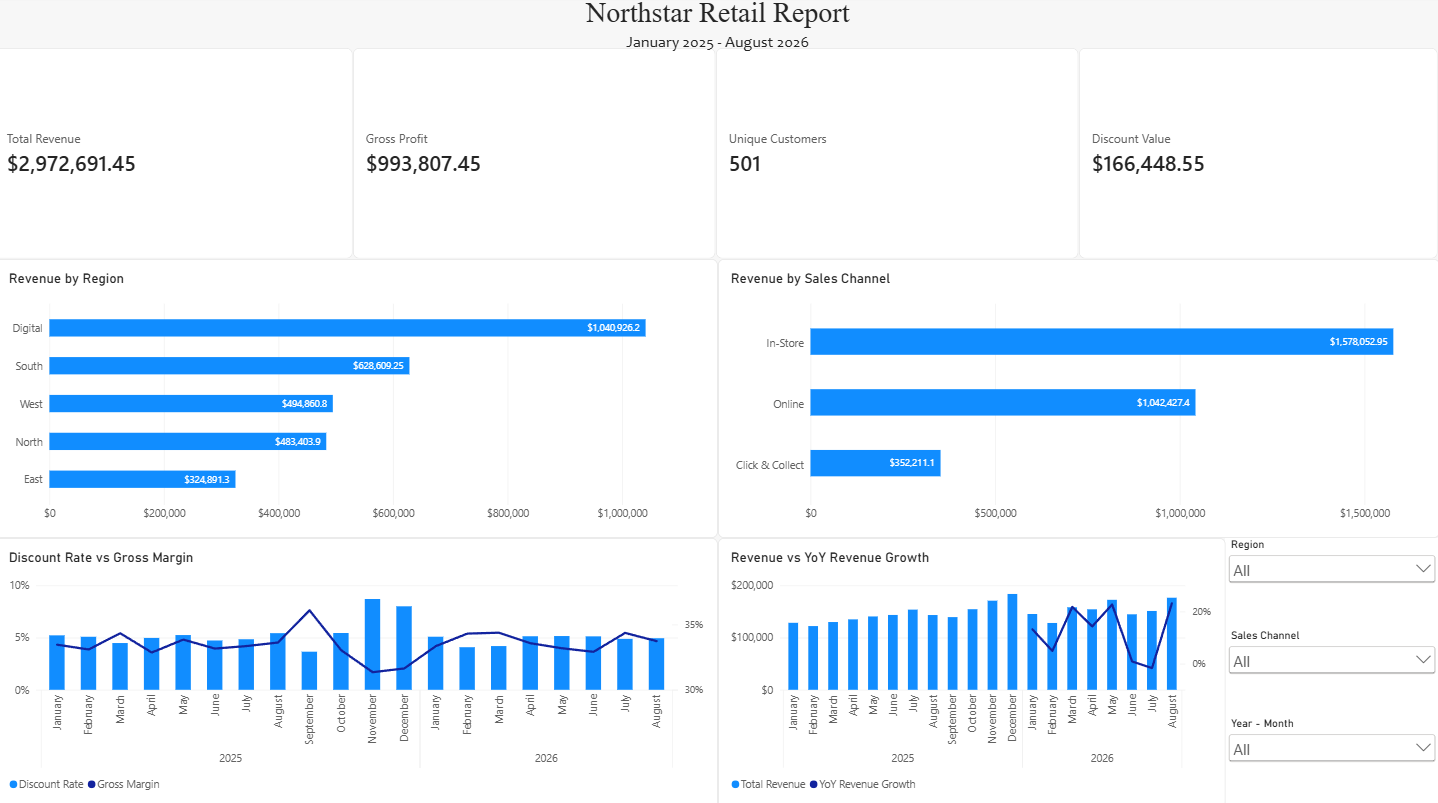

This screenshot's page, from the dashboard's own definition file:
{"tool":"powerbi","page":{"name":"Page 1","canvas":[1920,1080],"ordinal":0},"visuals":[{"type":"cardVisual","fields":{"Data":["SalesTable.Total Revenue"]},"box":[-2.9,69.6,477.1,280.1],"z":0},{"type":"cardVisual","fields":{"Data":["SalesTable.Gross Profit"]},"box":[474.2,69.6,482.9,280.1],"z":1},{"type":"cardVisual","fields":{"Data":["SalesTable.Unique Customers"]},"box":[957.1,69.6,482.9,280.1],"z":2},{"type":"cardVisual","fields":{"Data":["SalesTable.Discount Value"]},"box":[1440,69.6,477.1,280.1],"z":3},{"type":"clusteredBarChart","title":"Revenue by Region","fields":{"Category":["StoresTable.Region"],"Y":["SalesTable.Total Revenue"]},"box":[0,350,960,370.7],"z":4},{"type":"clusteredBarChart","title":"Revenue by Sales Channel","fields":{"Category":["DimSalesChannel.SalesChannel"],"Y":["SalesTable.Total Revenue"]},"box":[960,350,960,370.7],"z":5},{"type":"lineClusteredColumnComboChart","title":"Discount Rate vs Gross Margin","fields":{"Category":["CalendarTable.Year","CalendarTable.Month"],"Y":["SalesTable.Discount Rate"],"Y2":["SalesTable.Gross Margin"]},"box":[0,720.7,960,358.9],"z":6},{"type":"slicer","fields":{"Values":["DimRegion.Region"]},"box":[1635,720.7,285,121.1],"z":8},{"type":"slicer","fields":{"Values":["SalesTable.SalesChannel"]},"box":[1635,841.8,285,121.1],"z":9},{"type":"slicer","fields":{"Values":["CalendarTable.Year","CalendarTable.Month"]},"box":[1635,958.5,285,121.1],"z":10},{"type":"lineClusteredColumnComboChart","title":"Revenue vs YoY Revenue Growth","fields":{"Category":["CalendarTable.Year","CalendarTable.Month"],"Y":["SalesTable.Total Revenue"],"Y2":["SalesTable.YoY Revenue Growth"]},"box":[960,720.7,675,358.9],"z":11},{"type":"textbox","box":[0,0,1920,47.3],"z":12},{"type":"textbox","box":[0,47.3,1920,32.5],"z":13}]}

Visuals, with their boxes in screenshot pixels (x1, y1, x2, y2), scaled from the page's 1920x1080 canvas onto the 1438x803 screenshot:
cardVisual - SalesTable.Total Revenue: (0,52,355,260)
cardVisual - SalesTable.Gross Profit: (355,52,717,260)
cardVisual - SalesTable.Unique Customers: (717,52,1078,260)
cardVisual - SalesTable.Discount Value: (1078,52,1436,260)
"Revenue by Region" clusteredBarChart: (0,260,719,536)
"Revenue by Sales Channel" clusteredBarChart: (719,260,1437,536)
"Discount Rate vs Gross Margin" lineClusteredColumnComboChart: (0,536,719,802)
slicer - DimRegion.Region: (1225,536,1437,626)
slicer - SalesTable.SalesChannel: (1225,626,1437,716)
slicer - CalendarTable.Year x CalendarTable.Month: (1225,713,1437,802)
"Revenue vs YoY Revenue Growth" lineClusteredColumnComboChart: (719,536,1225,802)
textbox: (0,0,1437,35)
textbox: (0,35,1437,59)
